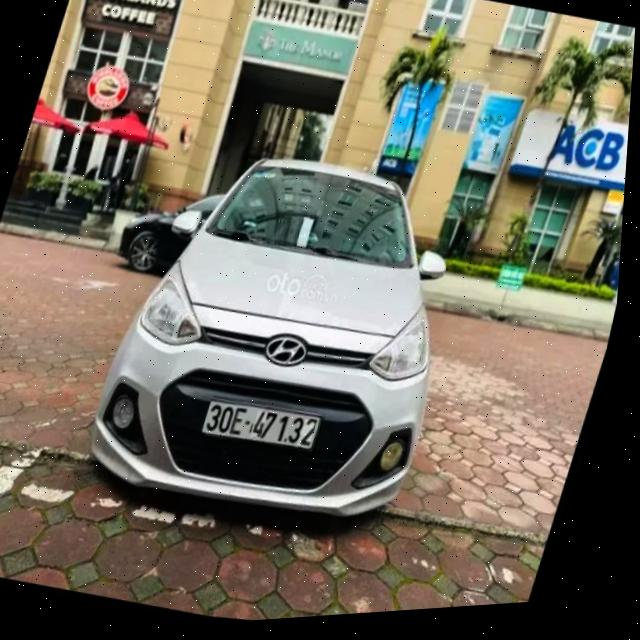car: (77, 118, 483, 556)
plate: (192, 386, 331, 465)
